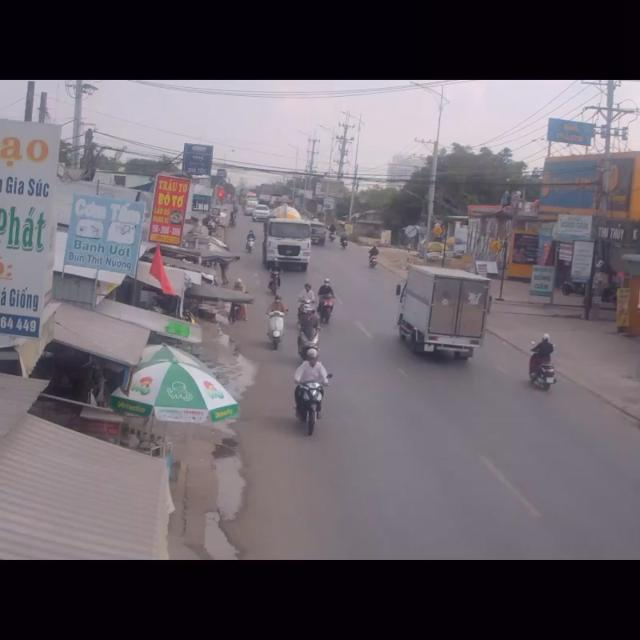motorbike: (290, 348, 328, 442), (527, 330, 556, 396), (296, 309, 323, 359), (266, 298, 286, 345), (317, 276, 335, 327), (269, 256, 284, 295), (298, 285, 314, 317), (368, 240, 378, 267)
truck: (394, 267, 489, 364), (261, 217, 314, 274)
